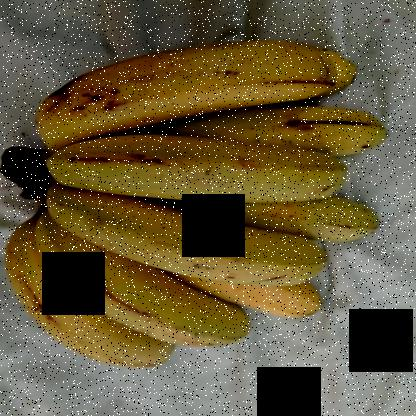ripe: (36, 33, 336, 148), (23, 216, 248, 360), (67, 195, 337, 294), (39, 130, 352, 211)
